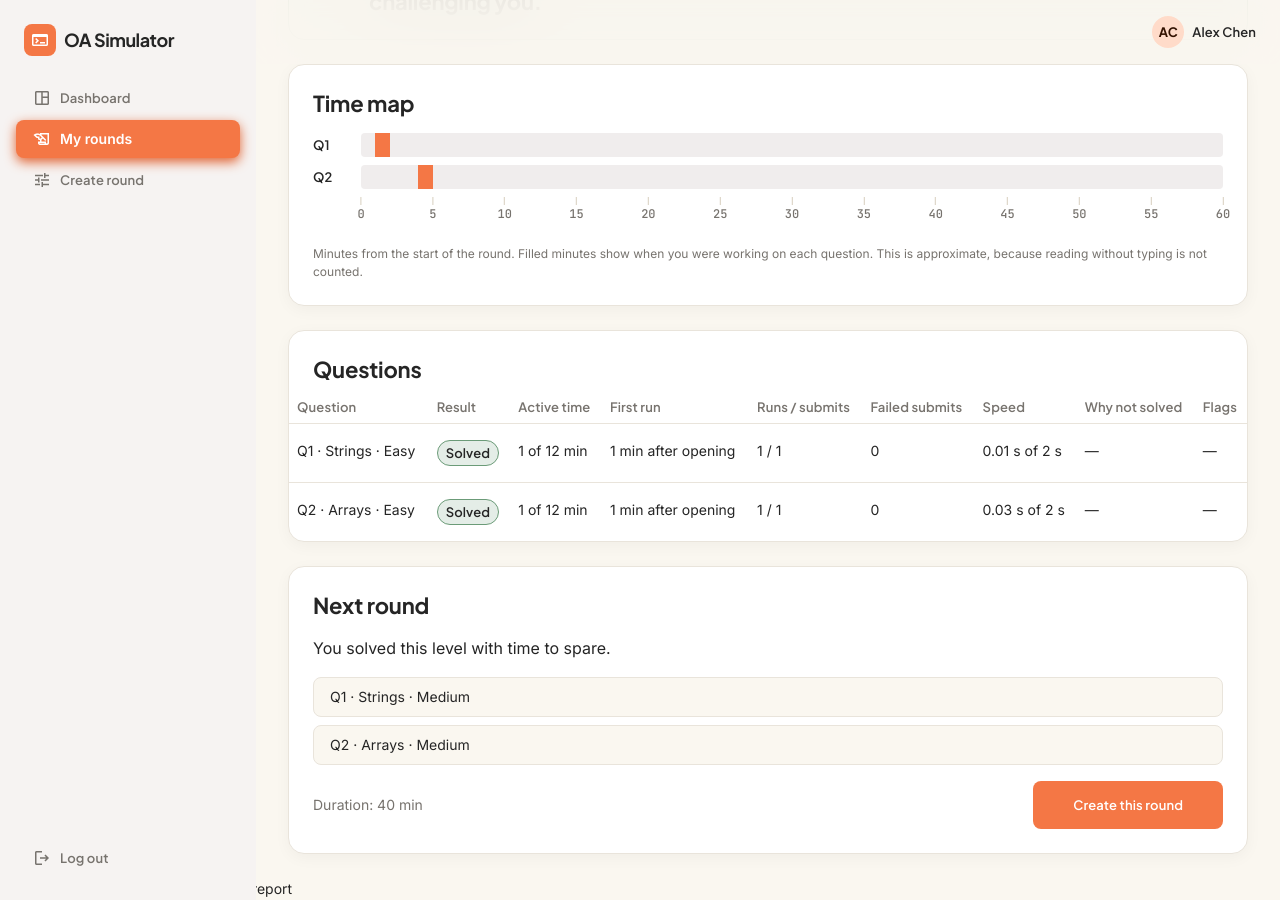
next round card › 409 READY_LIMIT_REACHED: the banner of the spec
The image size is (1280, 900).
(page scrolled)
Click the button "Create this round": (1128, 805) [1033,781,1223,829]
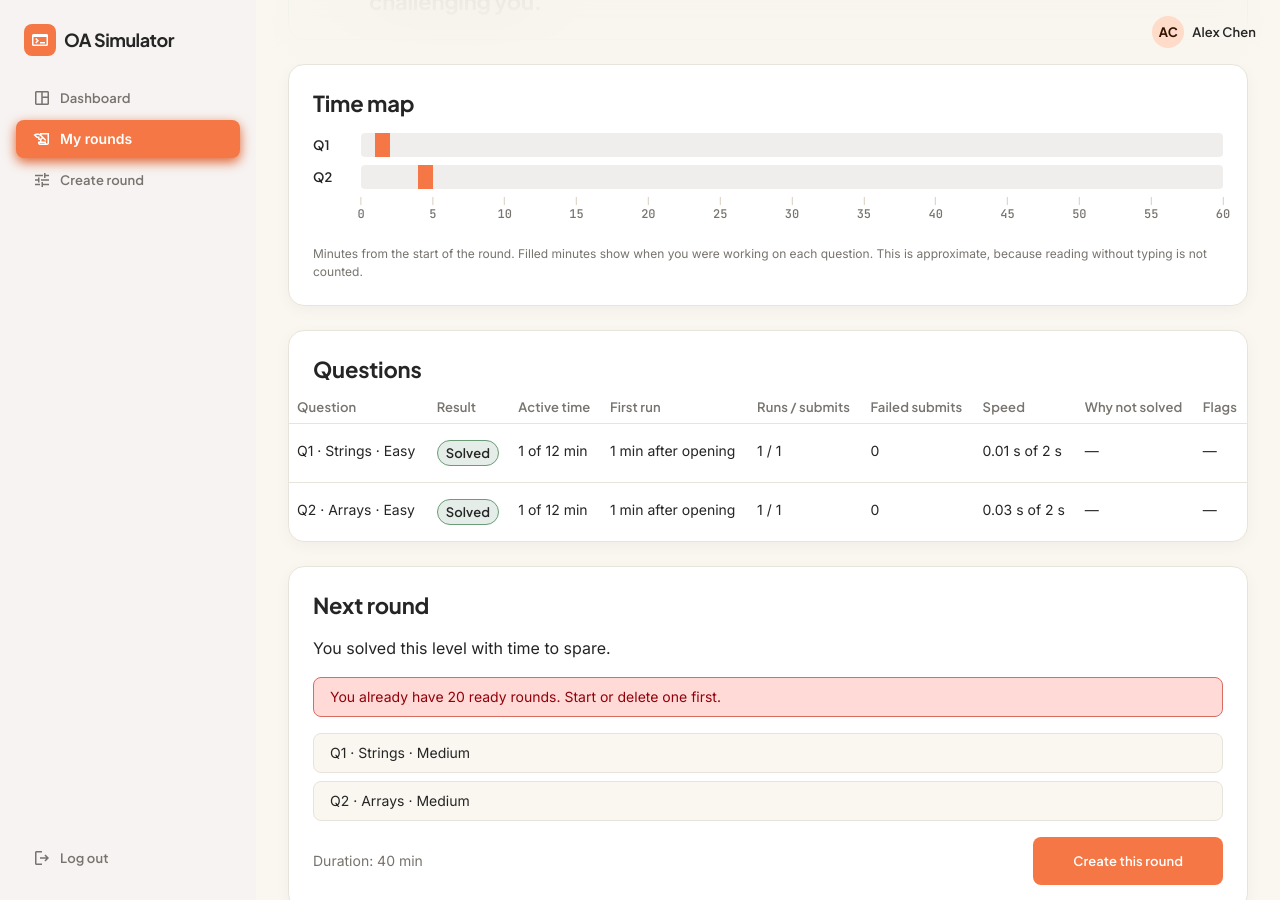
Expected: the button "Create this round" is enabled, [1033,837,1223,885]
Result: the message reads "You already have 20 ready rounds. Start or delete one first." at [330,688,721,705]
